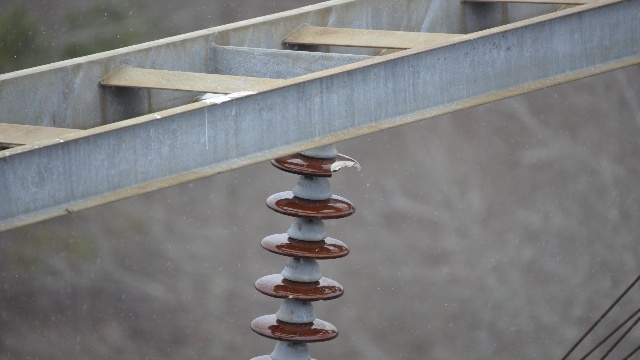broken_local: (328, 158, 363, 176)
insulator_unspecified: (252, 153, 362, 359)
